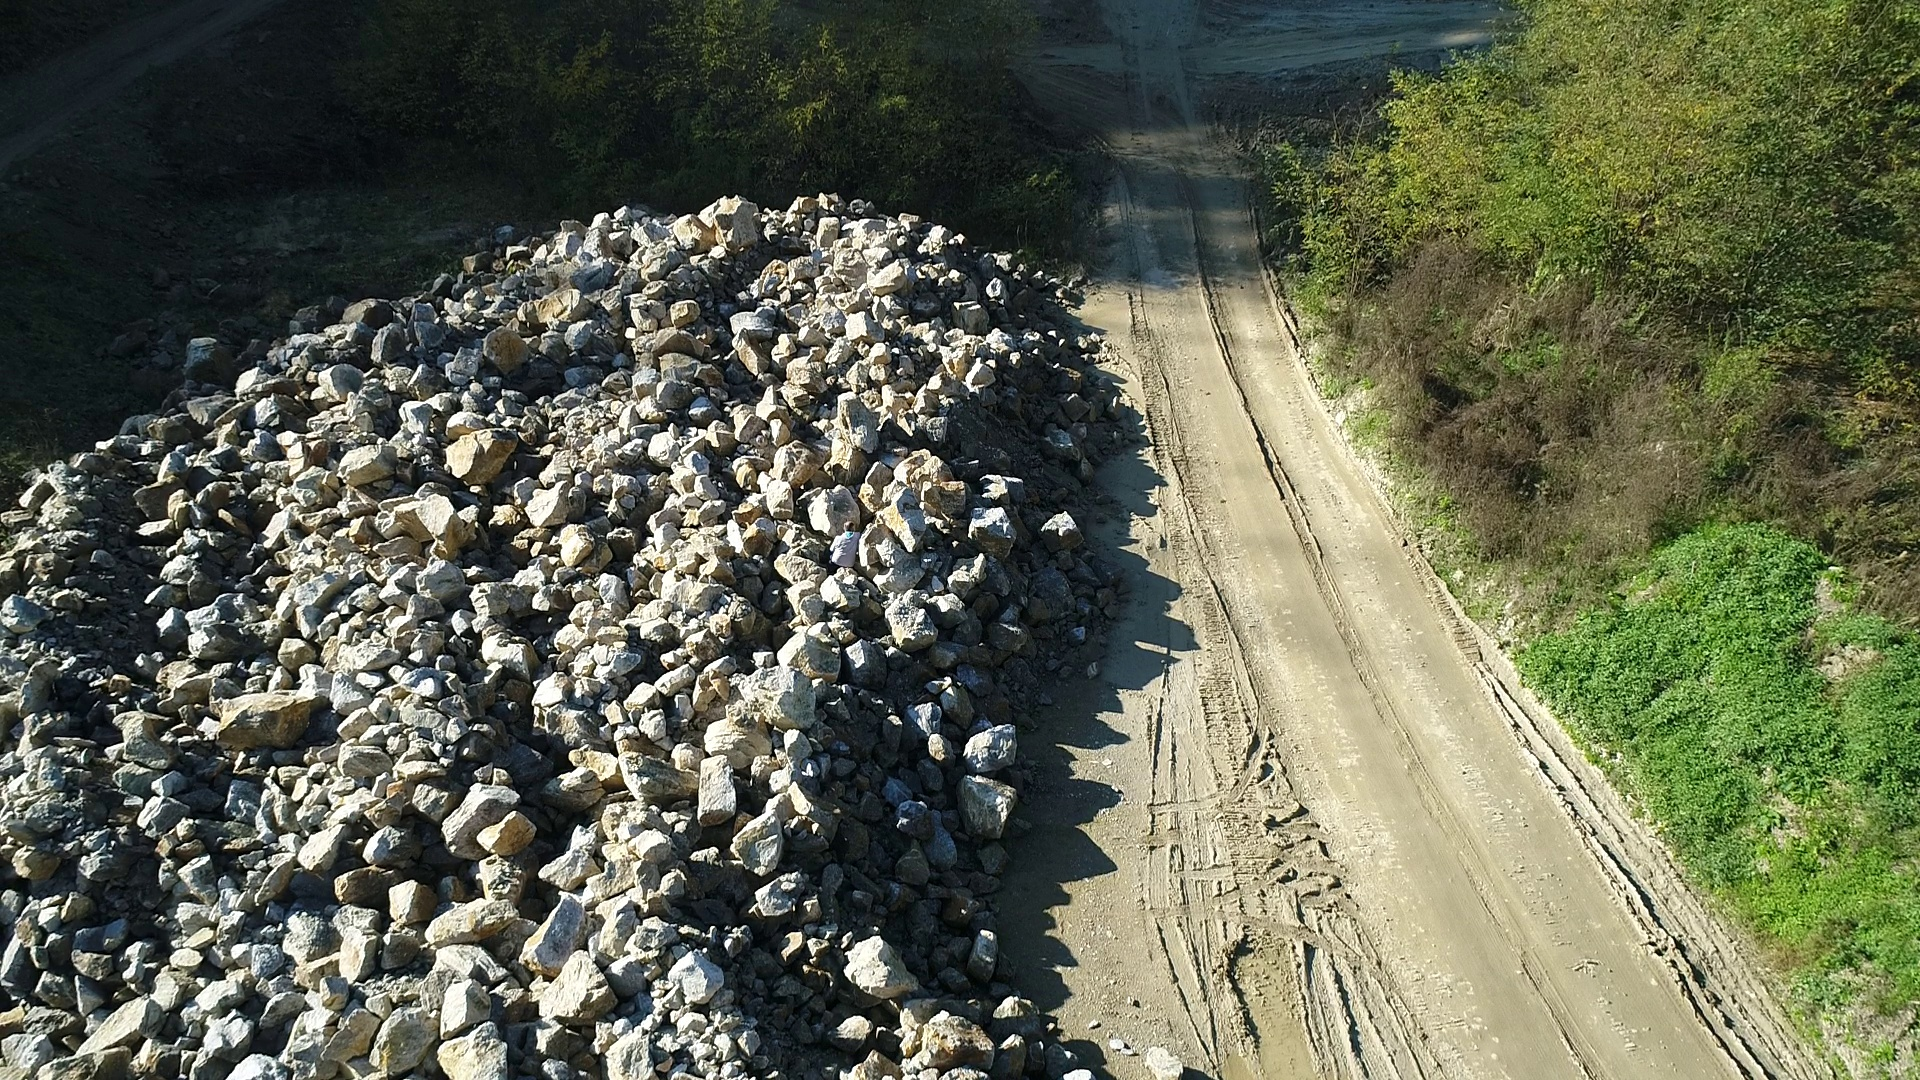person: (826, 520, 866, 569)
